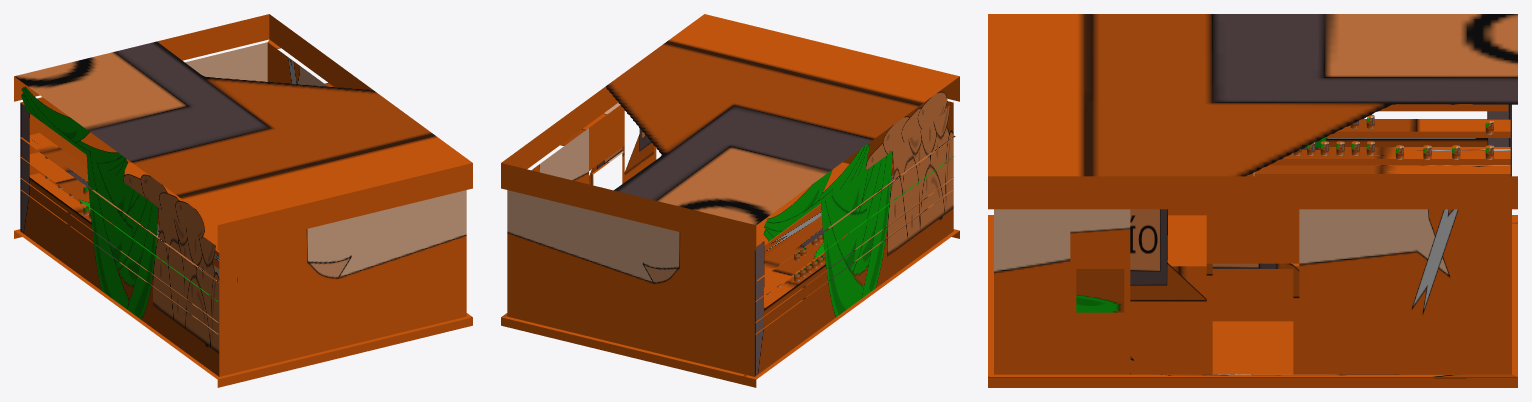
Rendered from COLMADO_002.fbx.
3 views of the same model, side by side, from view 1: azimuth 30°, elevation 25°; view 2: azimuth 150°, elevation 25°; view 3: azimuth 270°, elevation 25° (orthographic). The views are drawn at different scales.
Parts seen in each view (by area): view 1: building_001; view 2: building_001; view 3: building_001.
Boxes of the visible parts, bbox=[...] form: building_001: bbox=[14, 14, 472, 387]; building_001: bbox=[501, 14, 959, 387]; building_001: bbox=[988, 14, 1517, 387].
Bounding box in the file's own units: 639 × 389 × 882.
